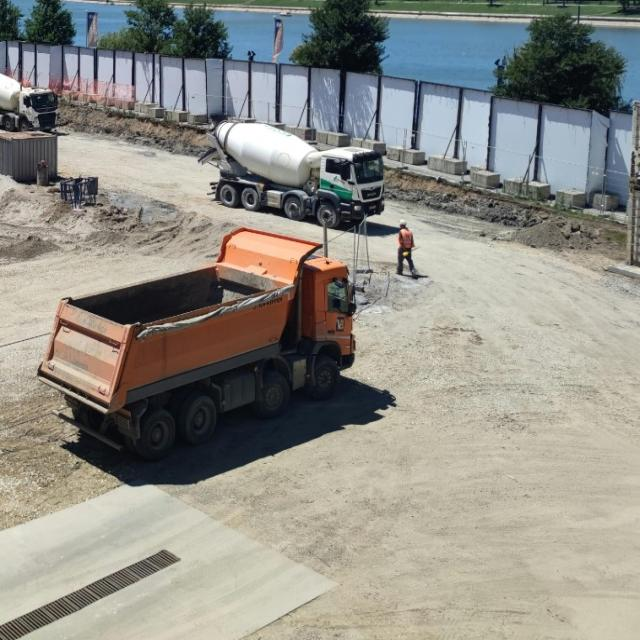truck: (36, 225, 357, 460), (197, 114, 385, 228), (0, 71, 57, 132)
